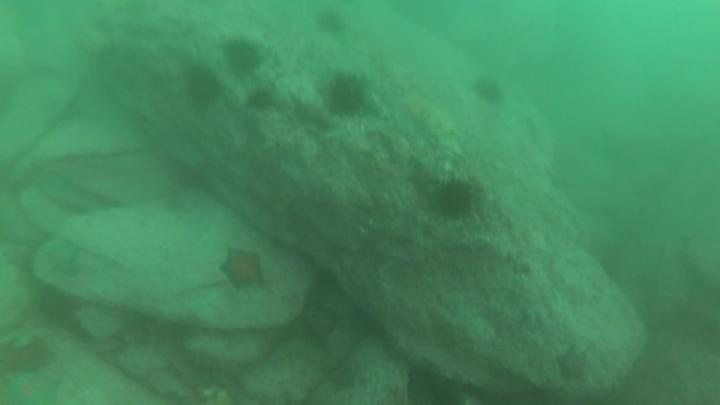echinus: (430, 174, 482, 227), (328, 69, 375, 120), (182, 63, 228, 114), (216, 36, 265, 79), (472, 73, 507, 107), (316, 7, 351, 38), (247, 86, 280, 116)
starfish: (219, 245, 268, 296), (325, 356, 362, 398), (1, 333, 31, 384), (557, 342, 592, 383)
